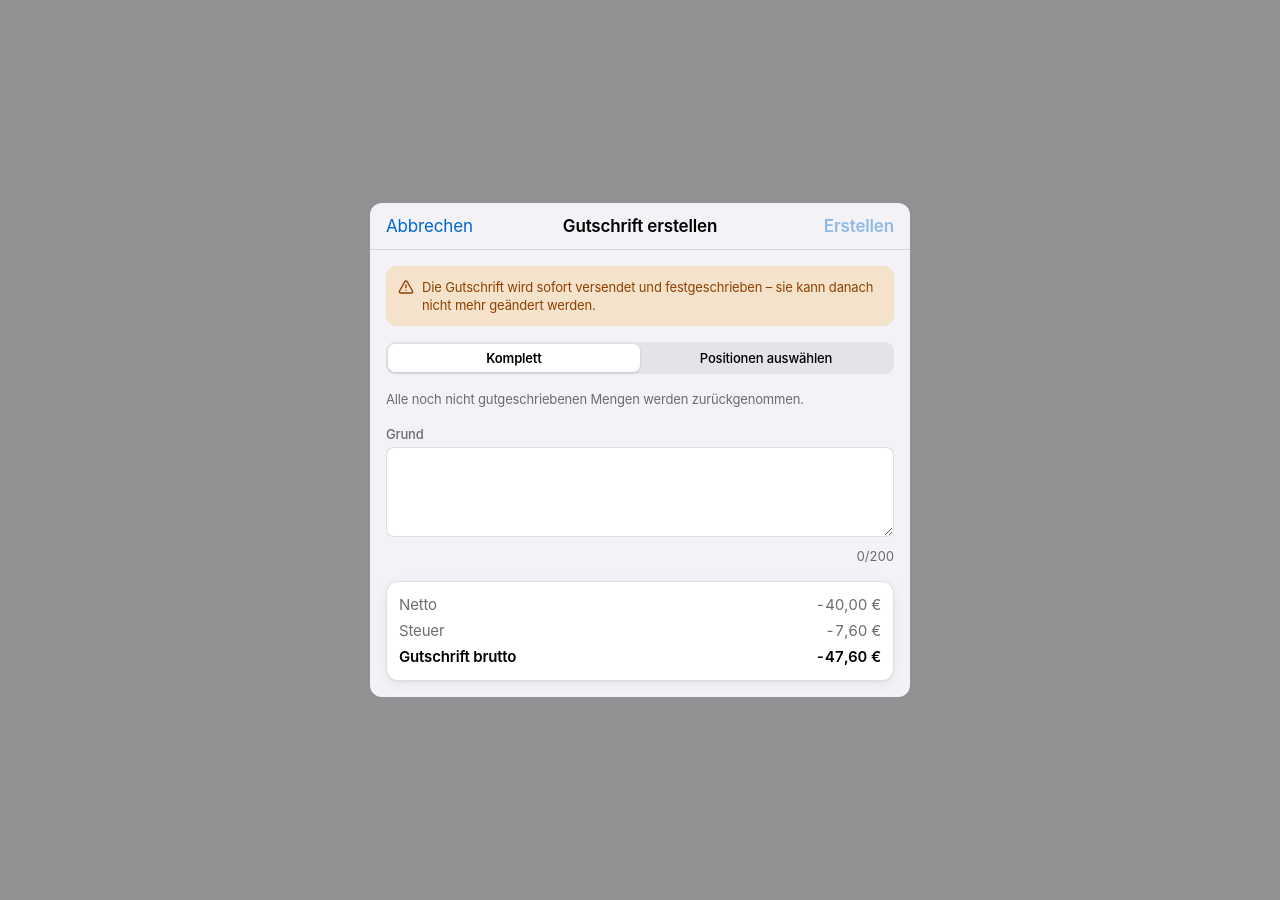
it: GutschriftSheet › Positionen: Auswahl schaltet Mengenfeld frei (Vorbelegung = Rest), Überschreitung sperrt
Click the button "Positionen auswählen" at {"x": 766, "y": 358}, box [640,344,892,372]
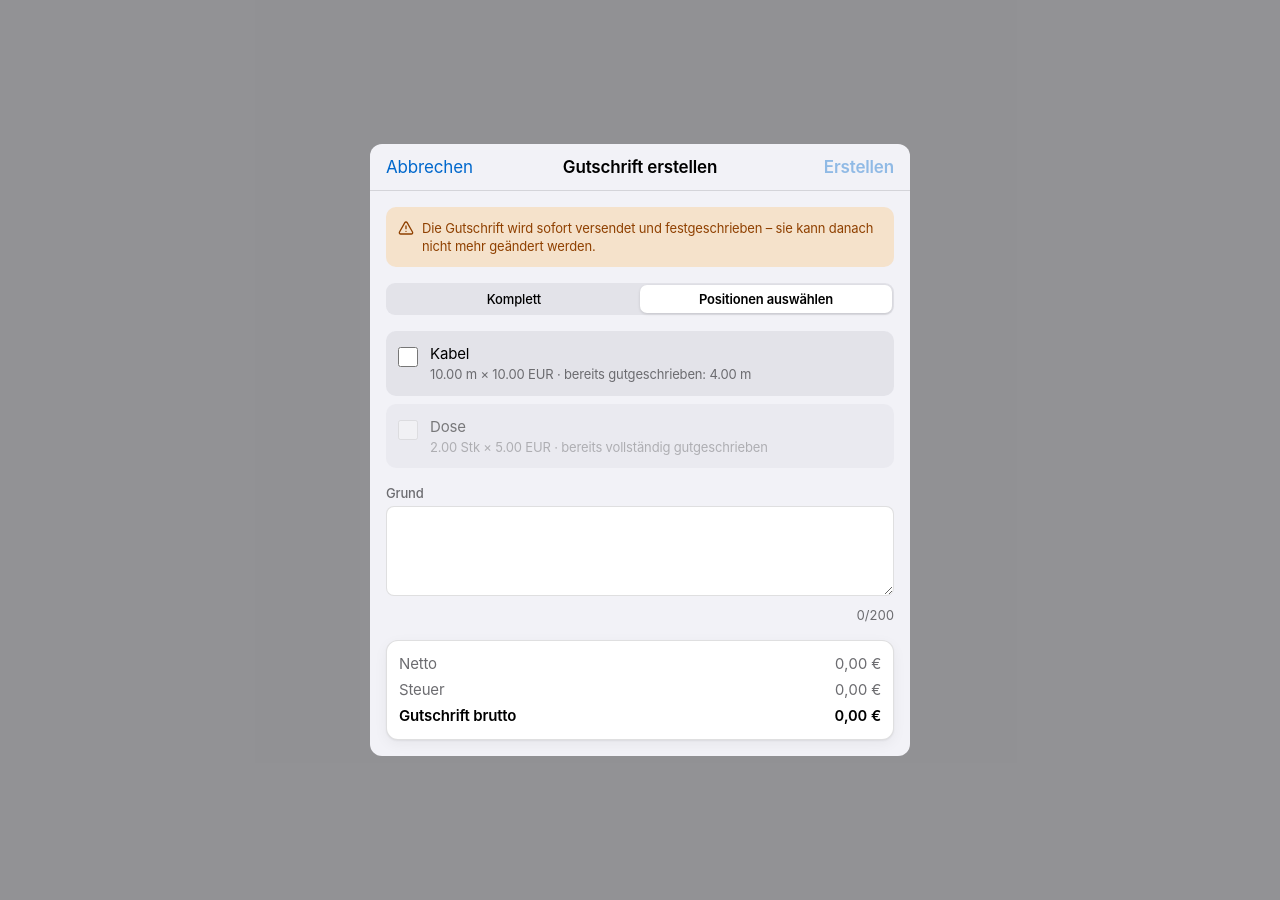
Expected: the button "Erstellen" is disabled, [824,156,894,178]
Click the checkbox named "Position 1 auswählen" at {"x": 408, "y": 357}, box [398,347,418,367]
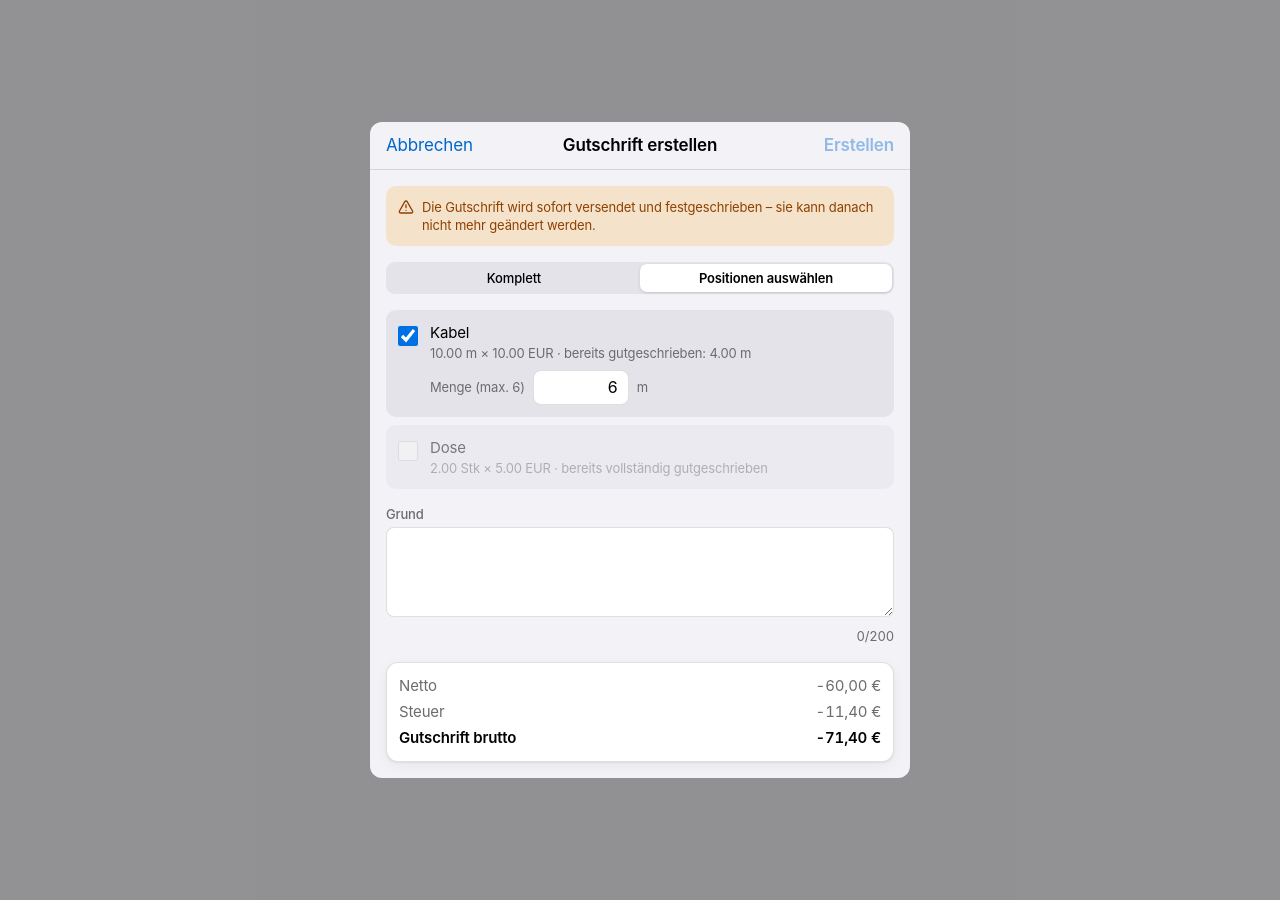
Expected: the field labelled "Menge (max. 6)" holds "6", [533,370,629,405]
Type "Zu viel berechnet" into the text box labelled "Grund" at {"x": 640, "y": 572}, box [386,527,894,617]
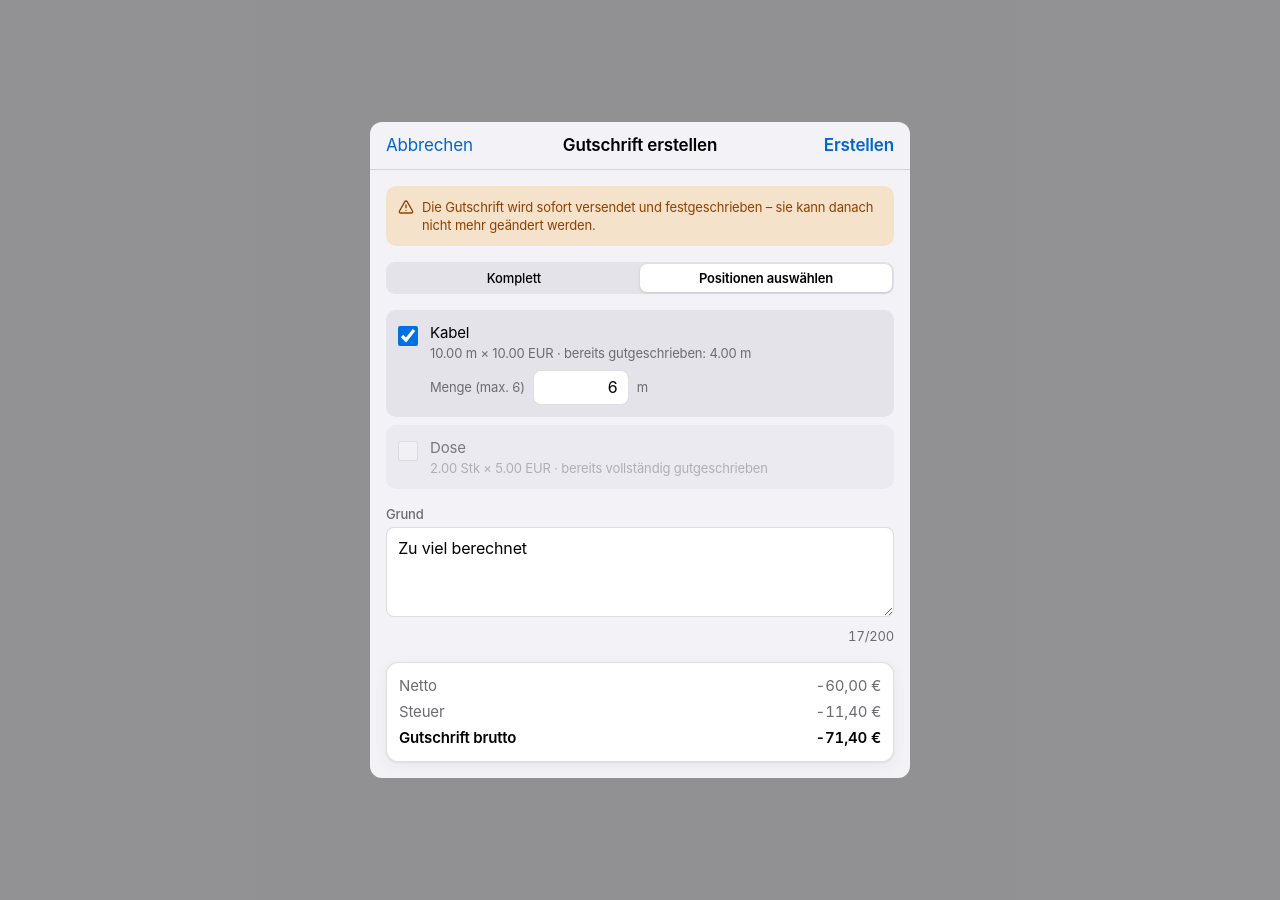
Expected: the button "Erstellen" is enabled, [824,134,894,157]
Replace the text in the field labelled "Menge (max. 6)" with "6,01" at {"x": 581, "y": 388}, box [533,370,629,405]
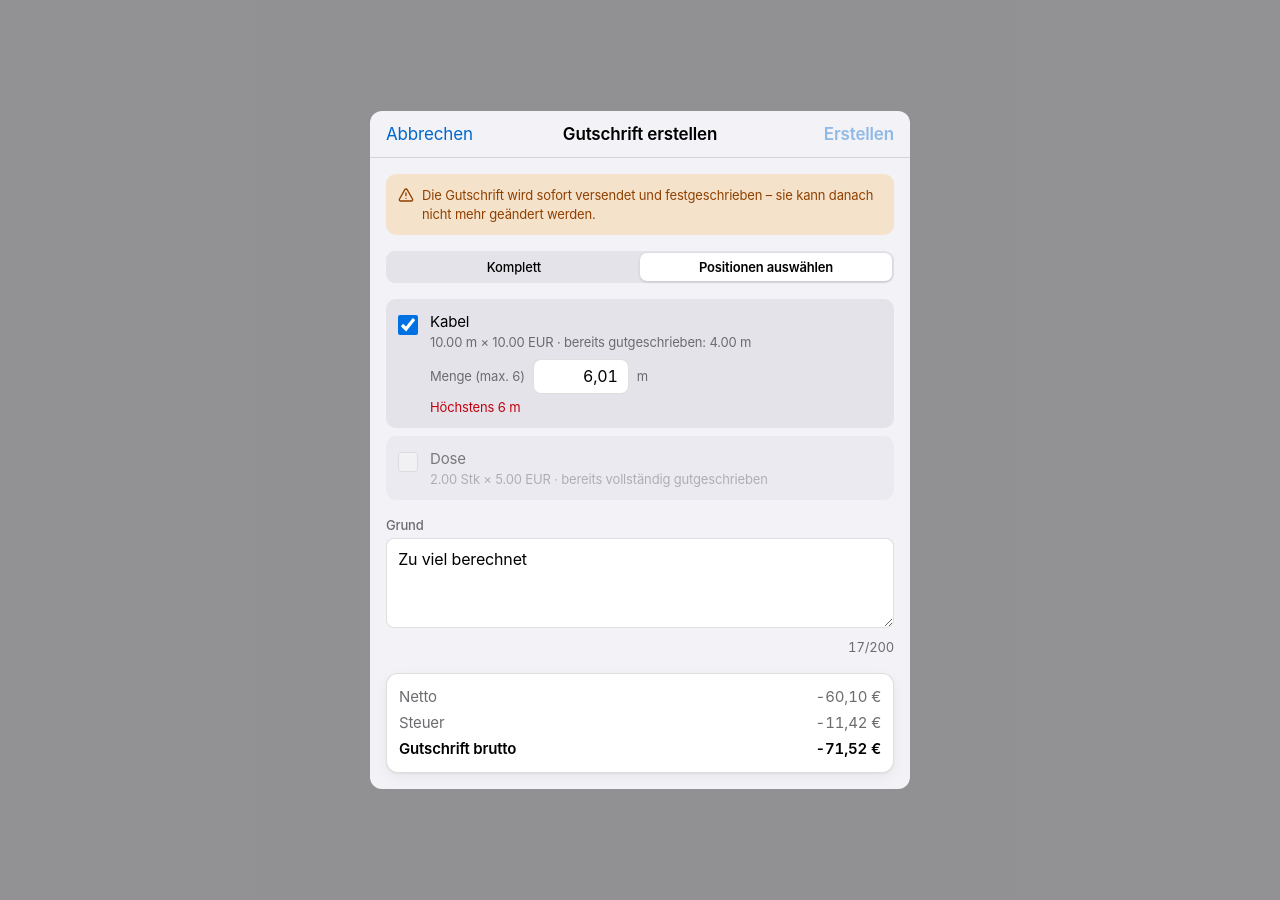
Expected: the message "Höchstens 6 m" is shown, [430,399,520,415]
Expected: the button "Erstellen" is disabled, [824,123,894,146]
Replace the text in the field labelled "Menge (max. 6)" with "2,5" at {"x": 581, "y": 376}, box [533,359,629,394]
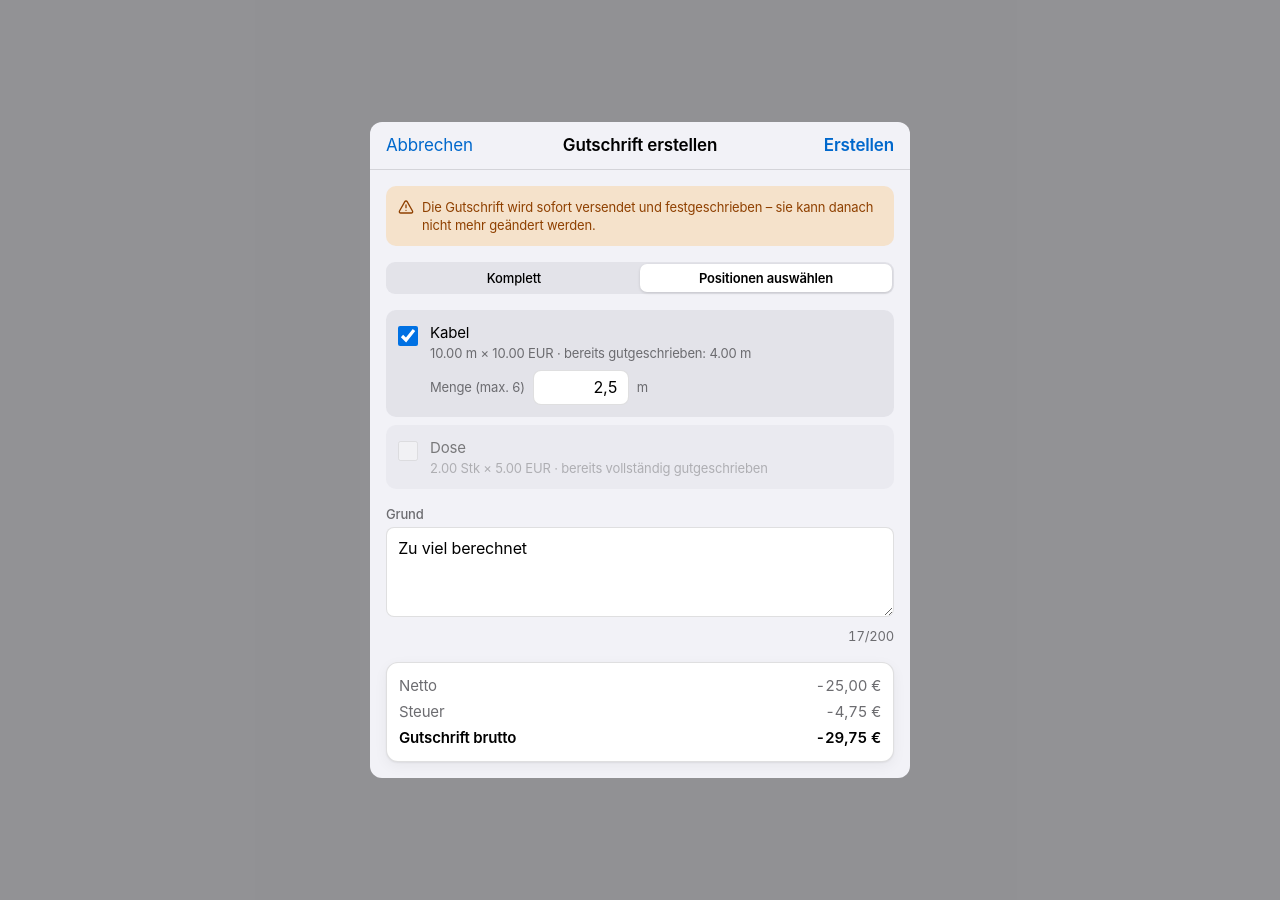
Expected: the button "Erstellen" is enabled, [824,134,894,157]
